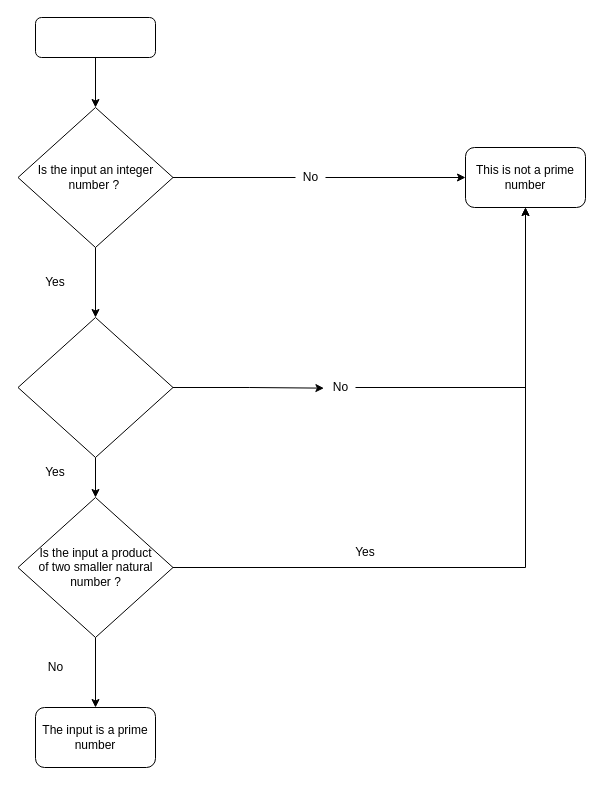
Some shapes in this 603 by 785 pixel diagram are drawn without their labels. The box of each missing label's shape, as (x1, y1, x2, y2) in pixels:
Input: (34, 16, 156, 58)
Is the input > 1 ?: (17, 316, 173, 458)
